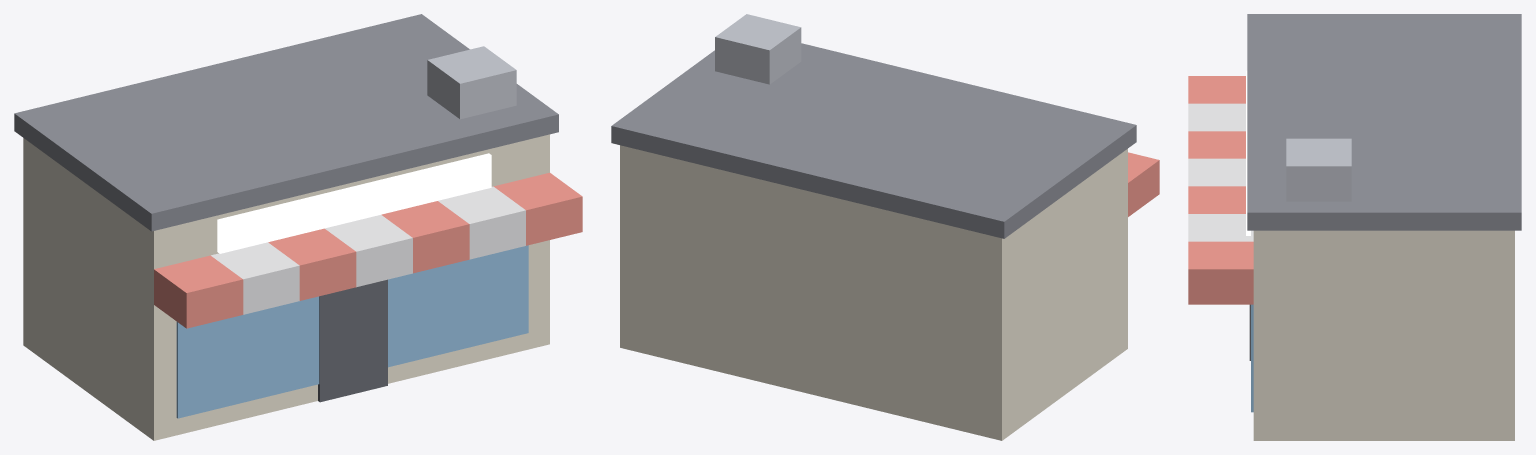
The model's file is city__shop_red.fbx.
3 renders of one model, left to right at view 1: azimuth 30°, elevation 25°; view 2: azimuth 150°, elevation 25°; view 3: azimuth 270°, elevation 25°, orthographic. The views are drawn at different scales.
Visible parts, largest first — view 1: city__shop_red; view 2: city__shop_red; view 3: city__shop_red.
Boxes of the visible parts, box(x1,y1,x2,y2) form: city__shop_red: box(14, 14, 582, 440); city__shop_red: box(611, 14, 1159, 440); city__shop_red: box(1188, 14, 1521, 440).
Bounding box in the file's own units: 7.2 × 4.5 × 5.1.
